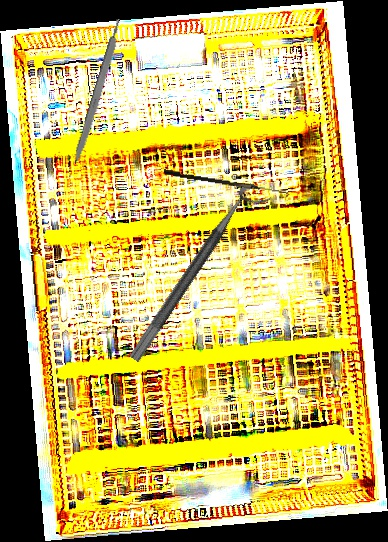Fixation Ring: (127, 179, 273, 373)
Hook Surgical: (163, 169, 289, 194)
Scalpel Handle: (71, 18, 126, 166)
